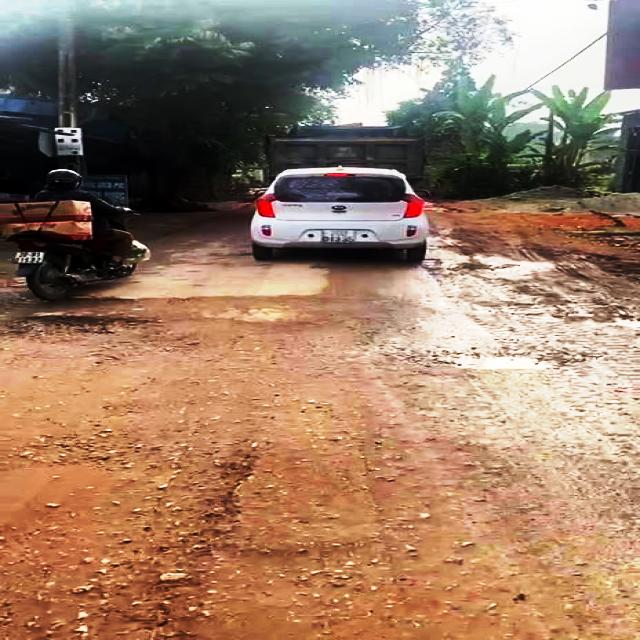pothole: (0, 427, 254, 640), (5, 310, 168, 342), (440, 350, 568, 372)
